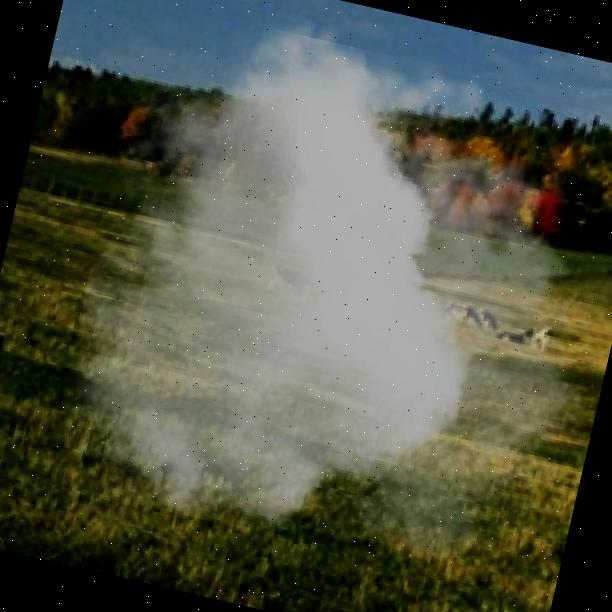smoke: (41, 0, 612, 600)
